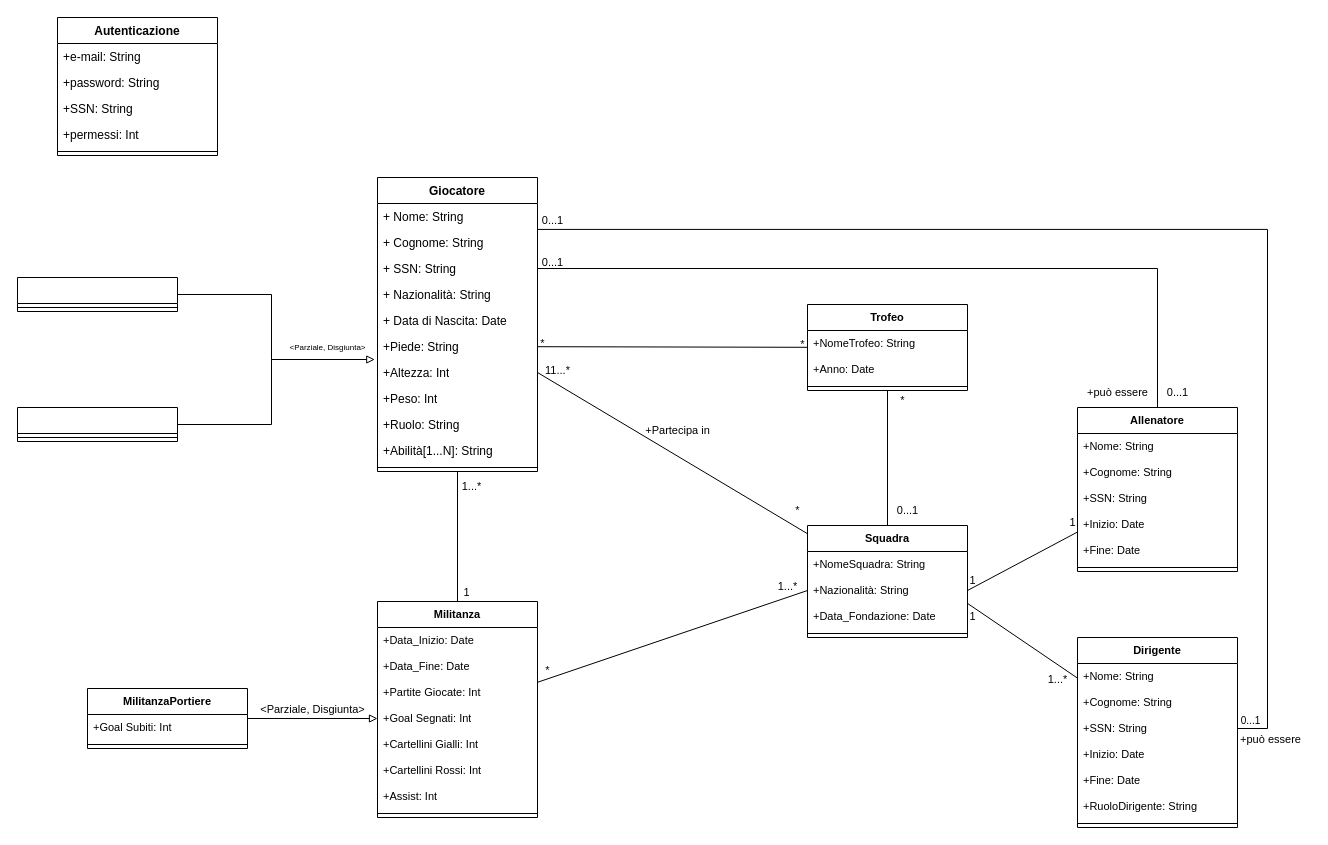
The diagram is 1328 pixels wide and 845 high, and some of its shapes have lost their labels. The centre of each missing label's shape, as x and y in pixels:
GiocatoreDiRuolo: the point at 97,424
Portiere: the point at 97,294
